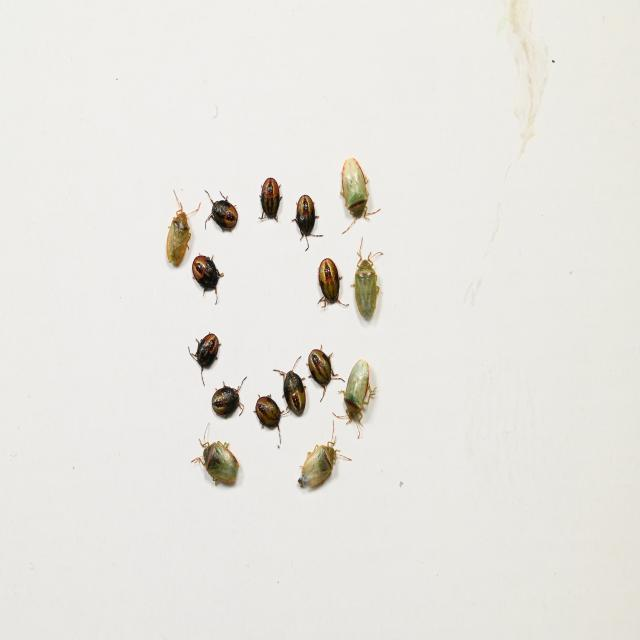stinkbug: (184, 422, 247, 490), (297, 420, 355, 492), (341, 152, 382, 235), (338, 358, 378, 441), (351, 236, 384, 326)
